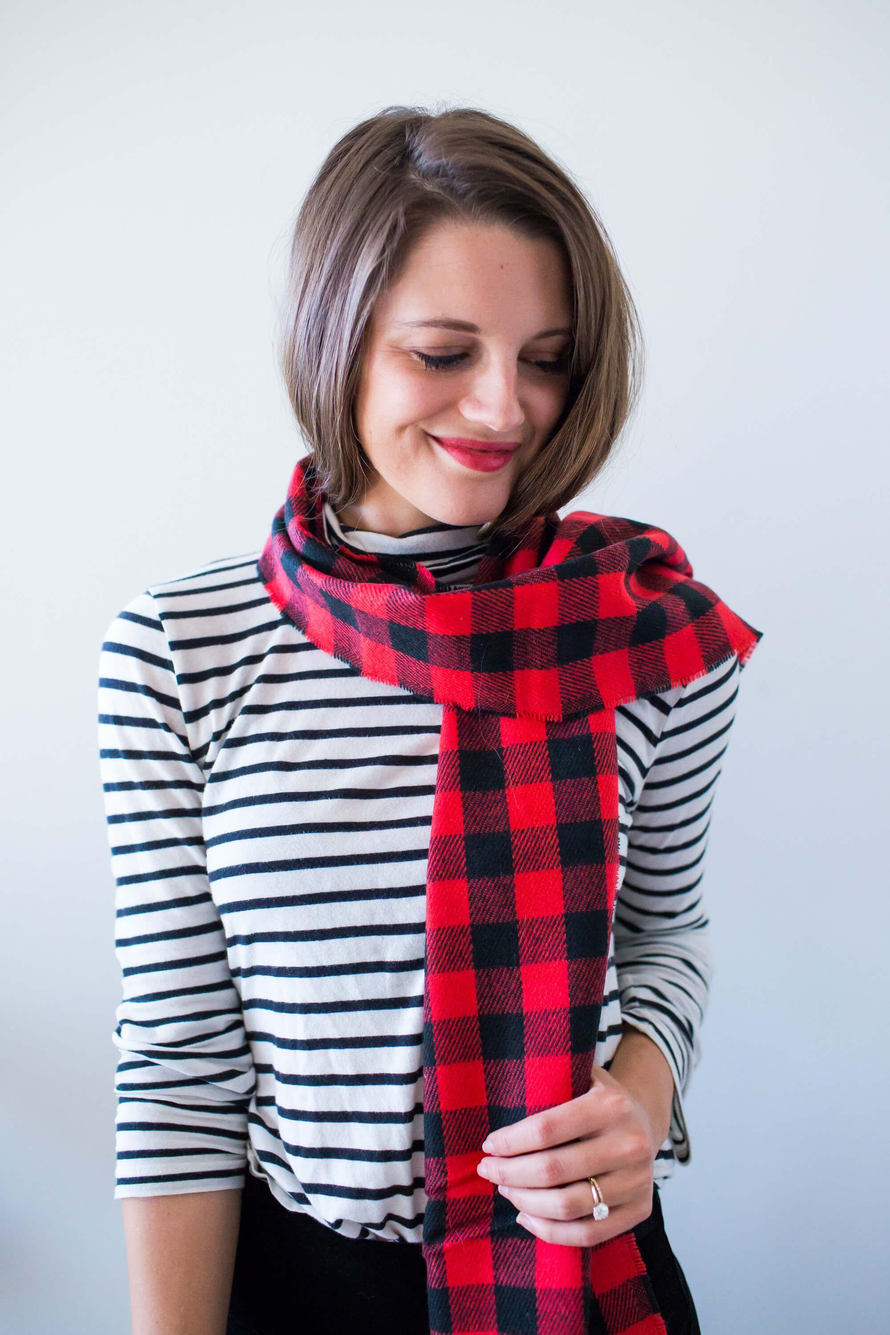person: (231, 71, 668, 565)
